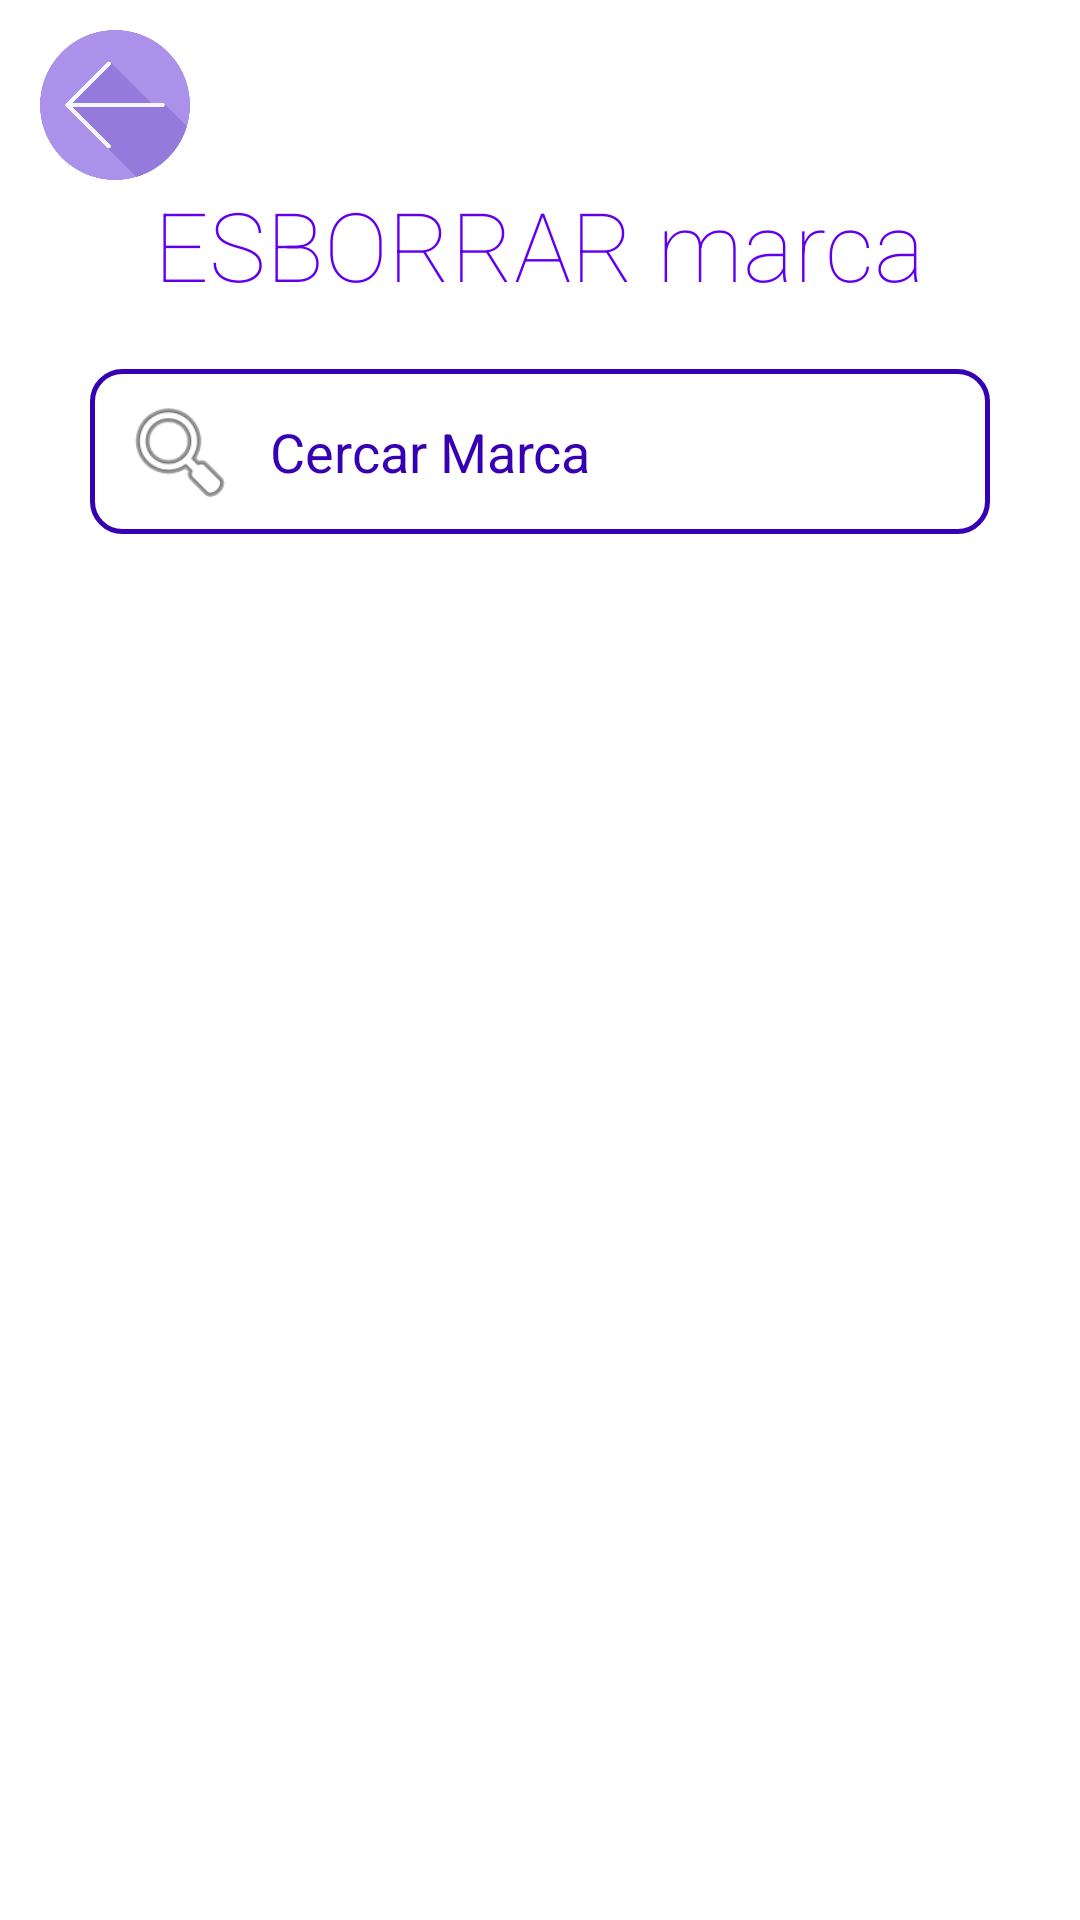

Where icons sit on this 1080×1920 app screen, as [x1=x1, y1=y1, x2=x2, y2=y2]:
back: [x1=40, y1=30, x2=190, y2=180]
search: [x1=135, y1=408, x2=224, y2=497]
